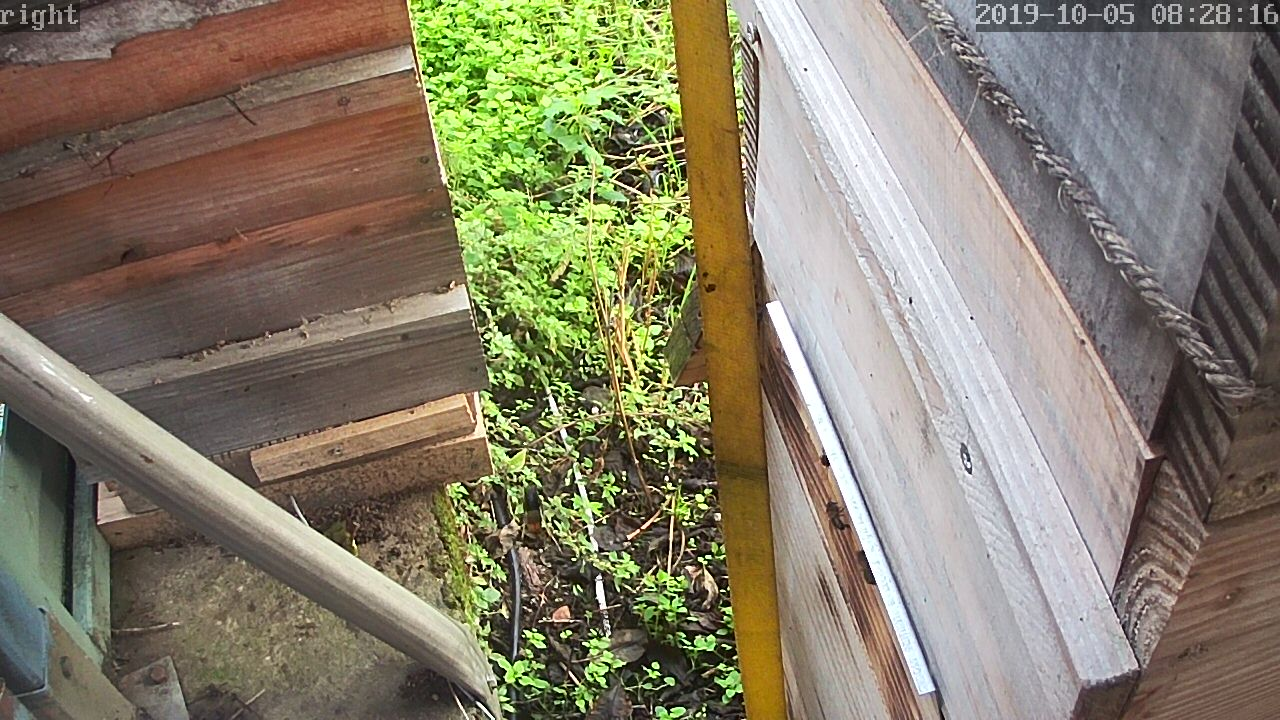bee: (811, 498, 849, 537)
hornet: (652, 253, 692, 299), (511, 484, 543, 532)
